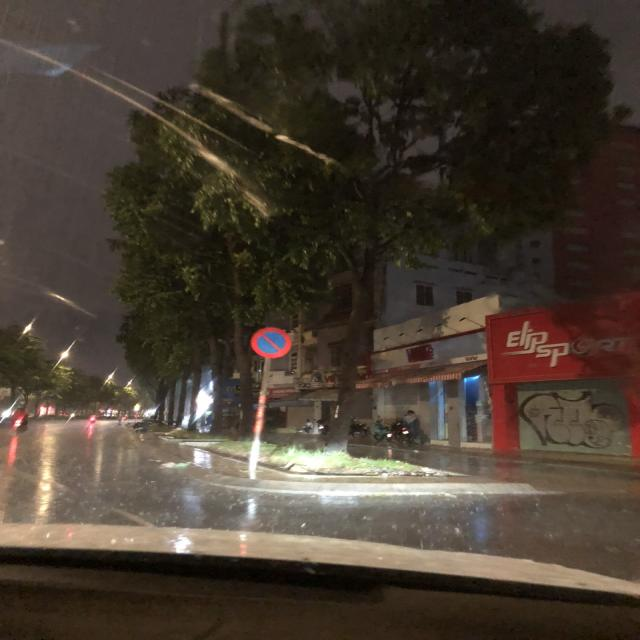Bien bao cam do xe: (250, 324, 292, 359)
